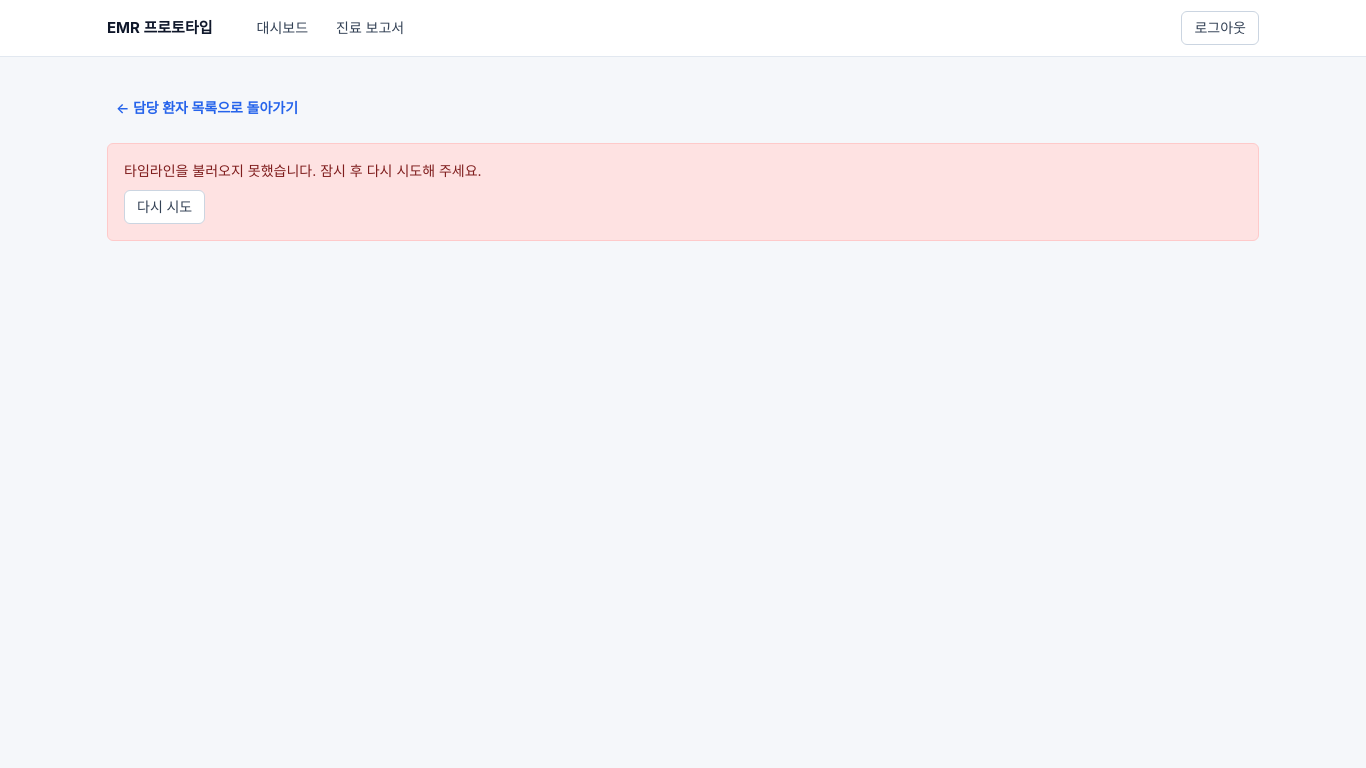
it: PatientTimelinePage › shows a generic error message with a working retry button on a server error
Click the button "다시 시도": x=165, y=207 [124, 190, 205, 224]
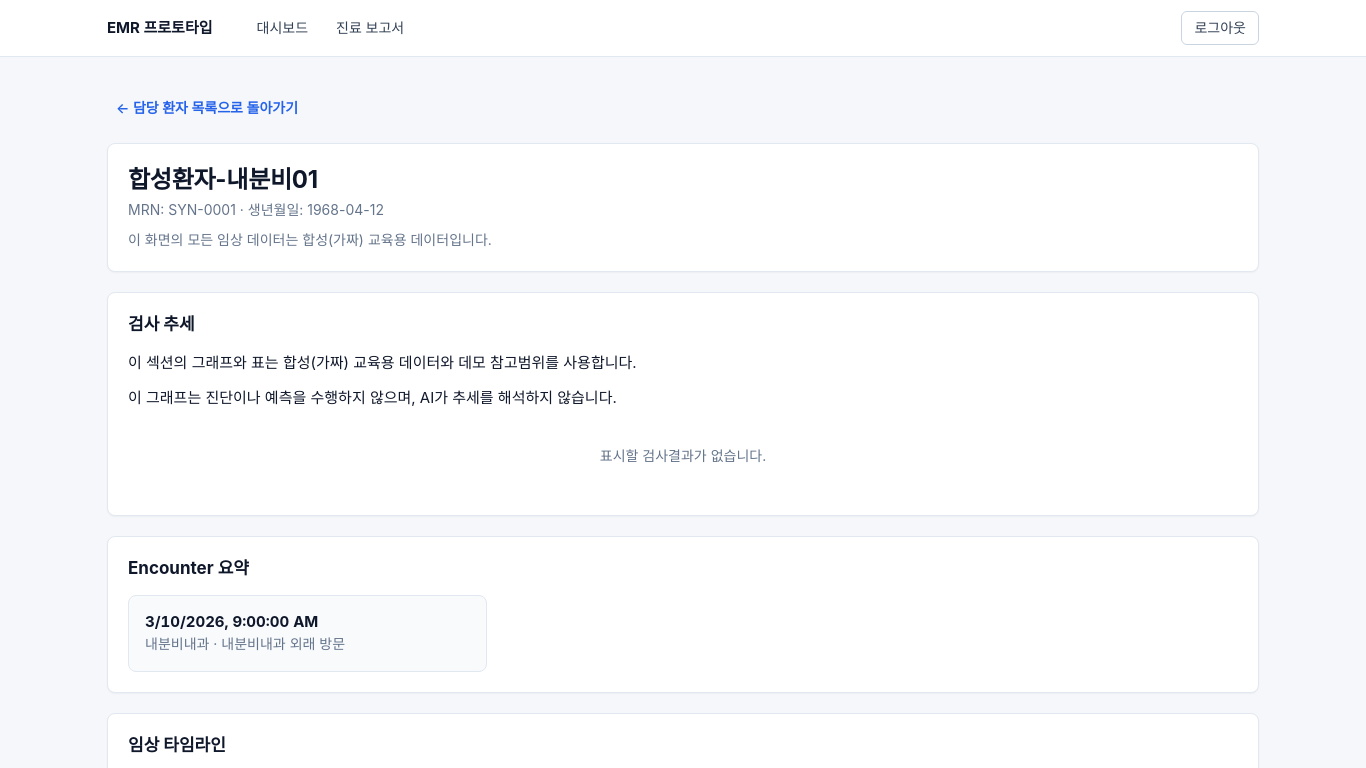
Result: the heading "합성환자-내분비01" is shown at [128, 165, 318, 194]
